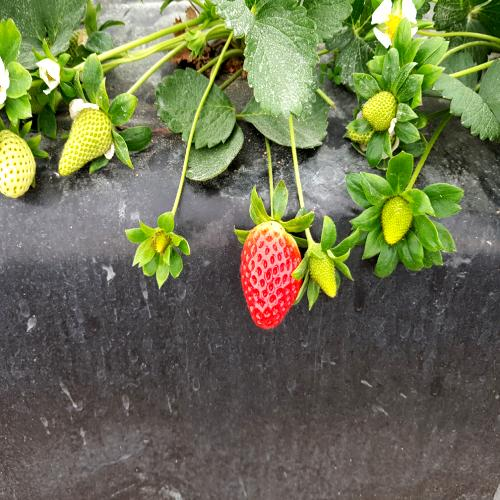ripe: (239, 213, 306, 343)
